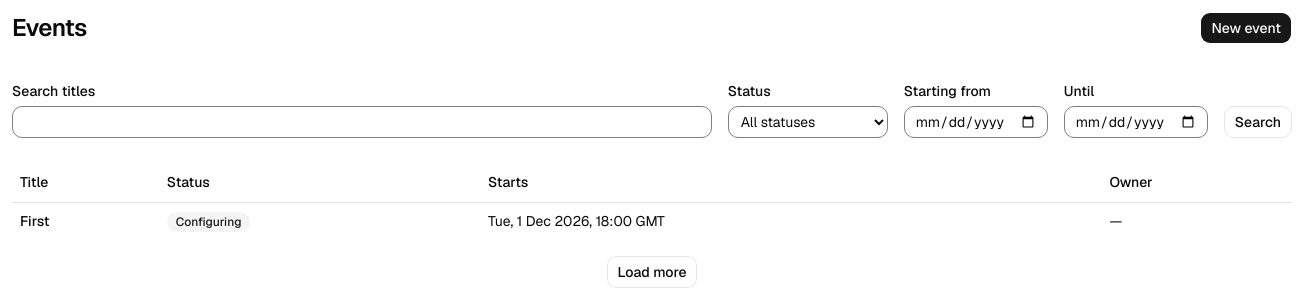
it: EventsPage › loads the next page with the cursor
Click the button "Load more".
click(652, 272)  # box [606,256,698,288]
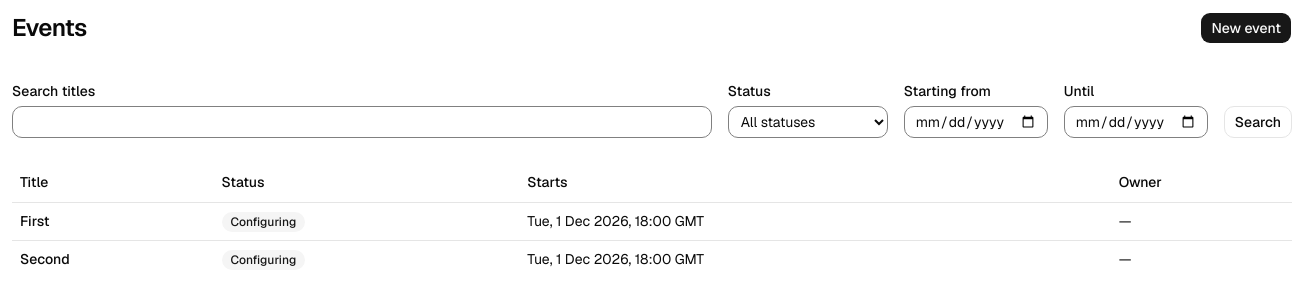
Expected: the link "First" is shown, [20,212,50,230]
Expected: the link "Second" is shown, [20,250,70,268]
Expected: the button "Load more" is gone
